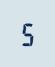five: (19, 19, 33, 47)
